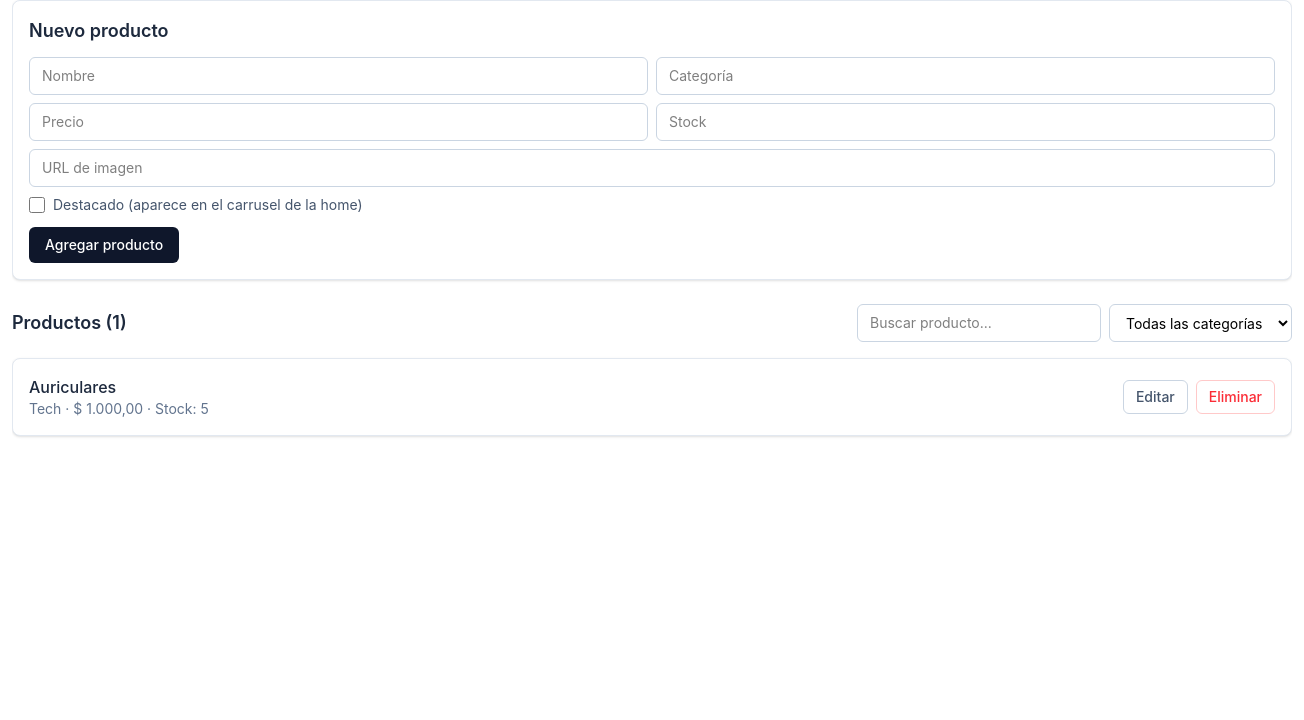
Test case: AdminProducts › edita un producto existente
Click the button "Editar" at (1155, 397), box x1=1123 y1=380 x2=1188 y2=414
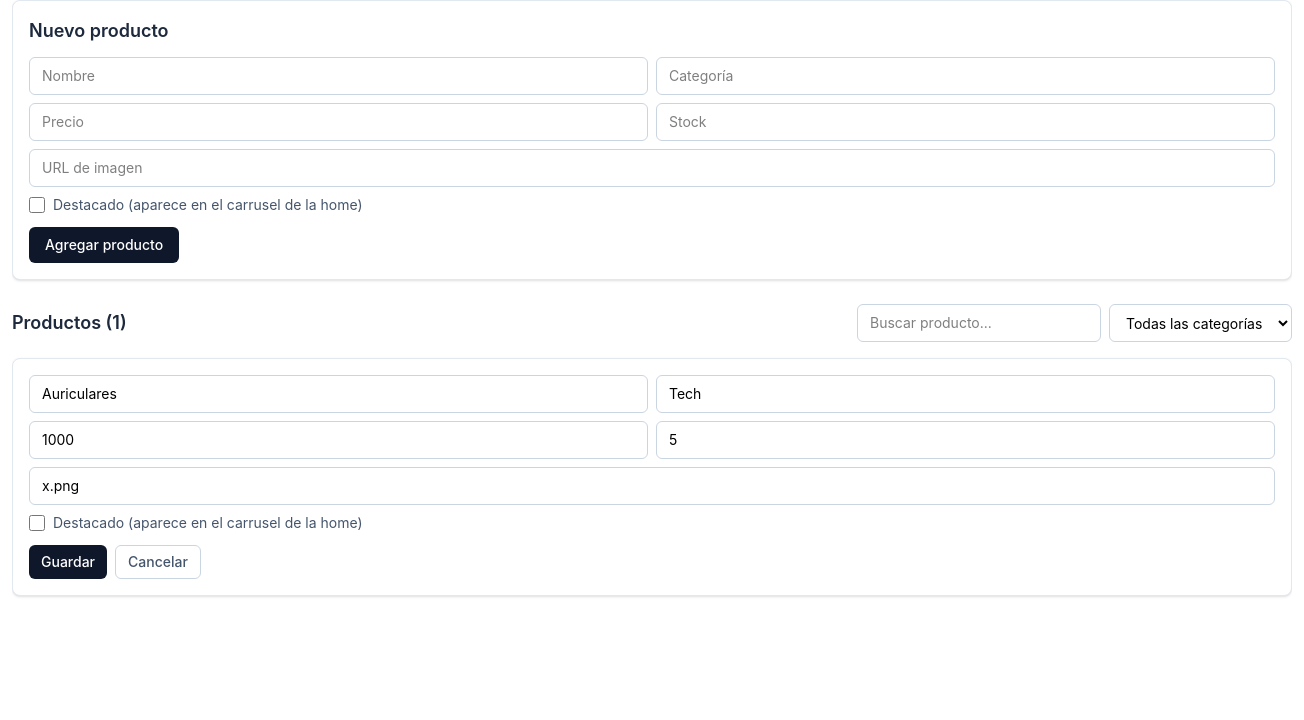
Replace the text in the 2nd number field showing "5" with "20" at (966, 440), box x1=656 y1=421 x2=1275 y2=459
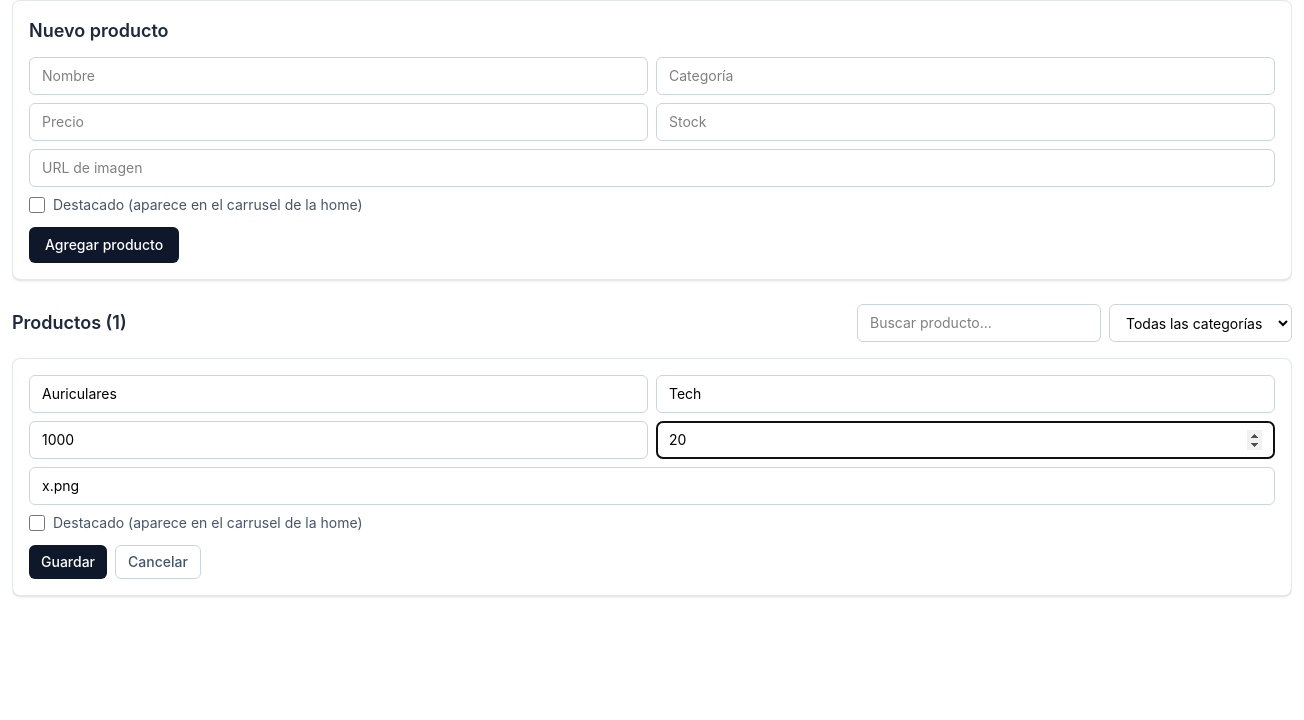
Click the button "Guardar" at (68, 562), box x1=29 y1=545 x2=107 y2=579
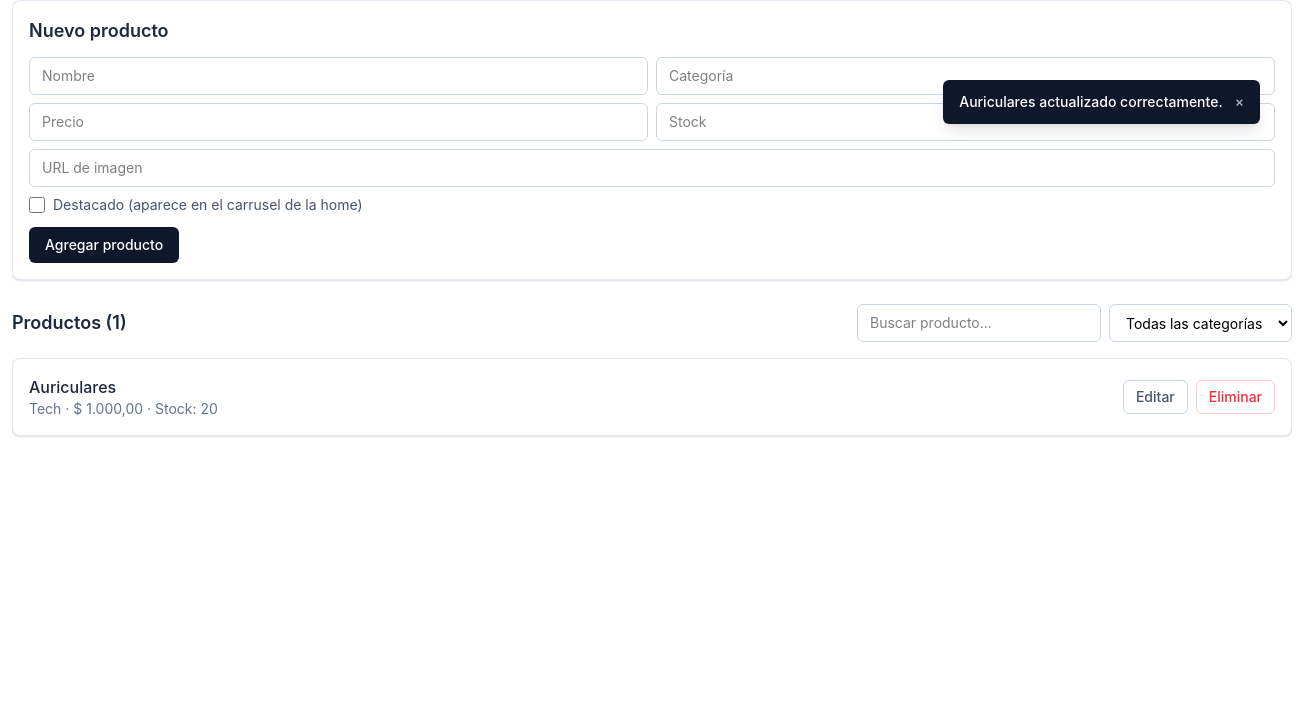
Expected: the text "Tech · $ 1.000,00 · Stock: 20" is shown, x1=29 y1=399 x2=218 y2=419
Expected: the text "Auriculares actualizado correctamente." is shown, x1=959 y1=92 x2=1223 y2=112
